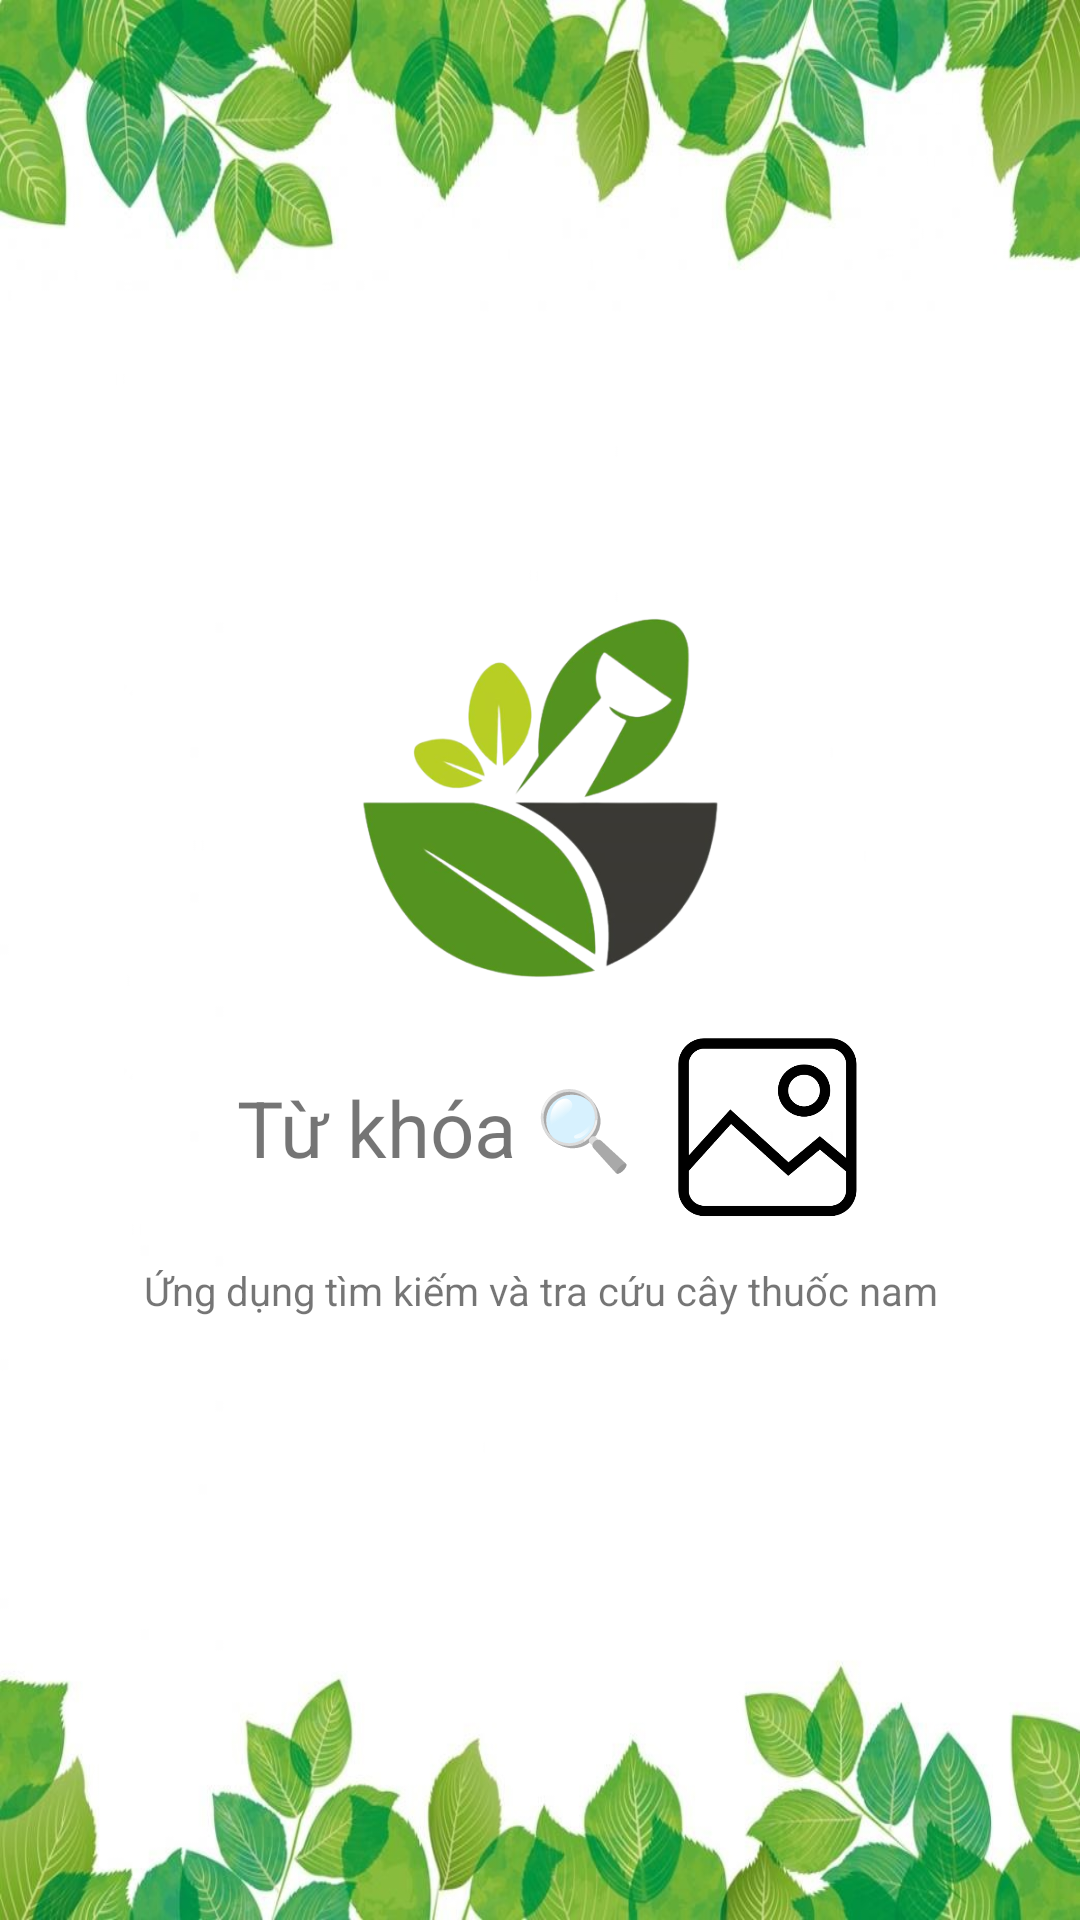

Icons on this 1080px×1920px Android screen, each with the point to tap as [x,y]:
iconlacayv: [540,798]
